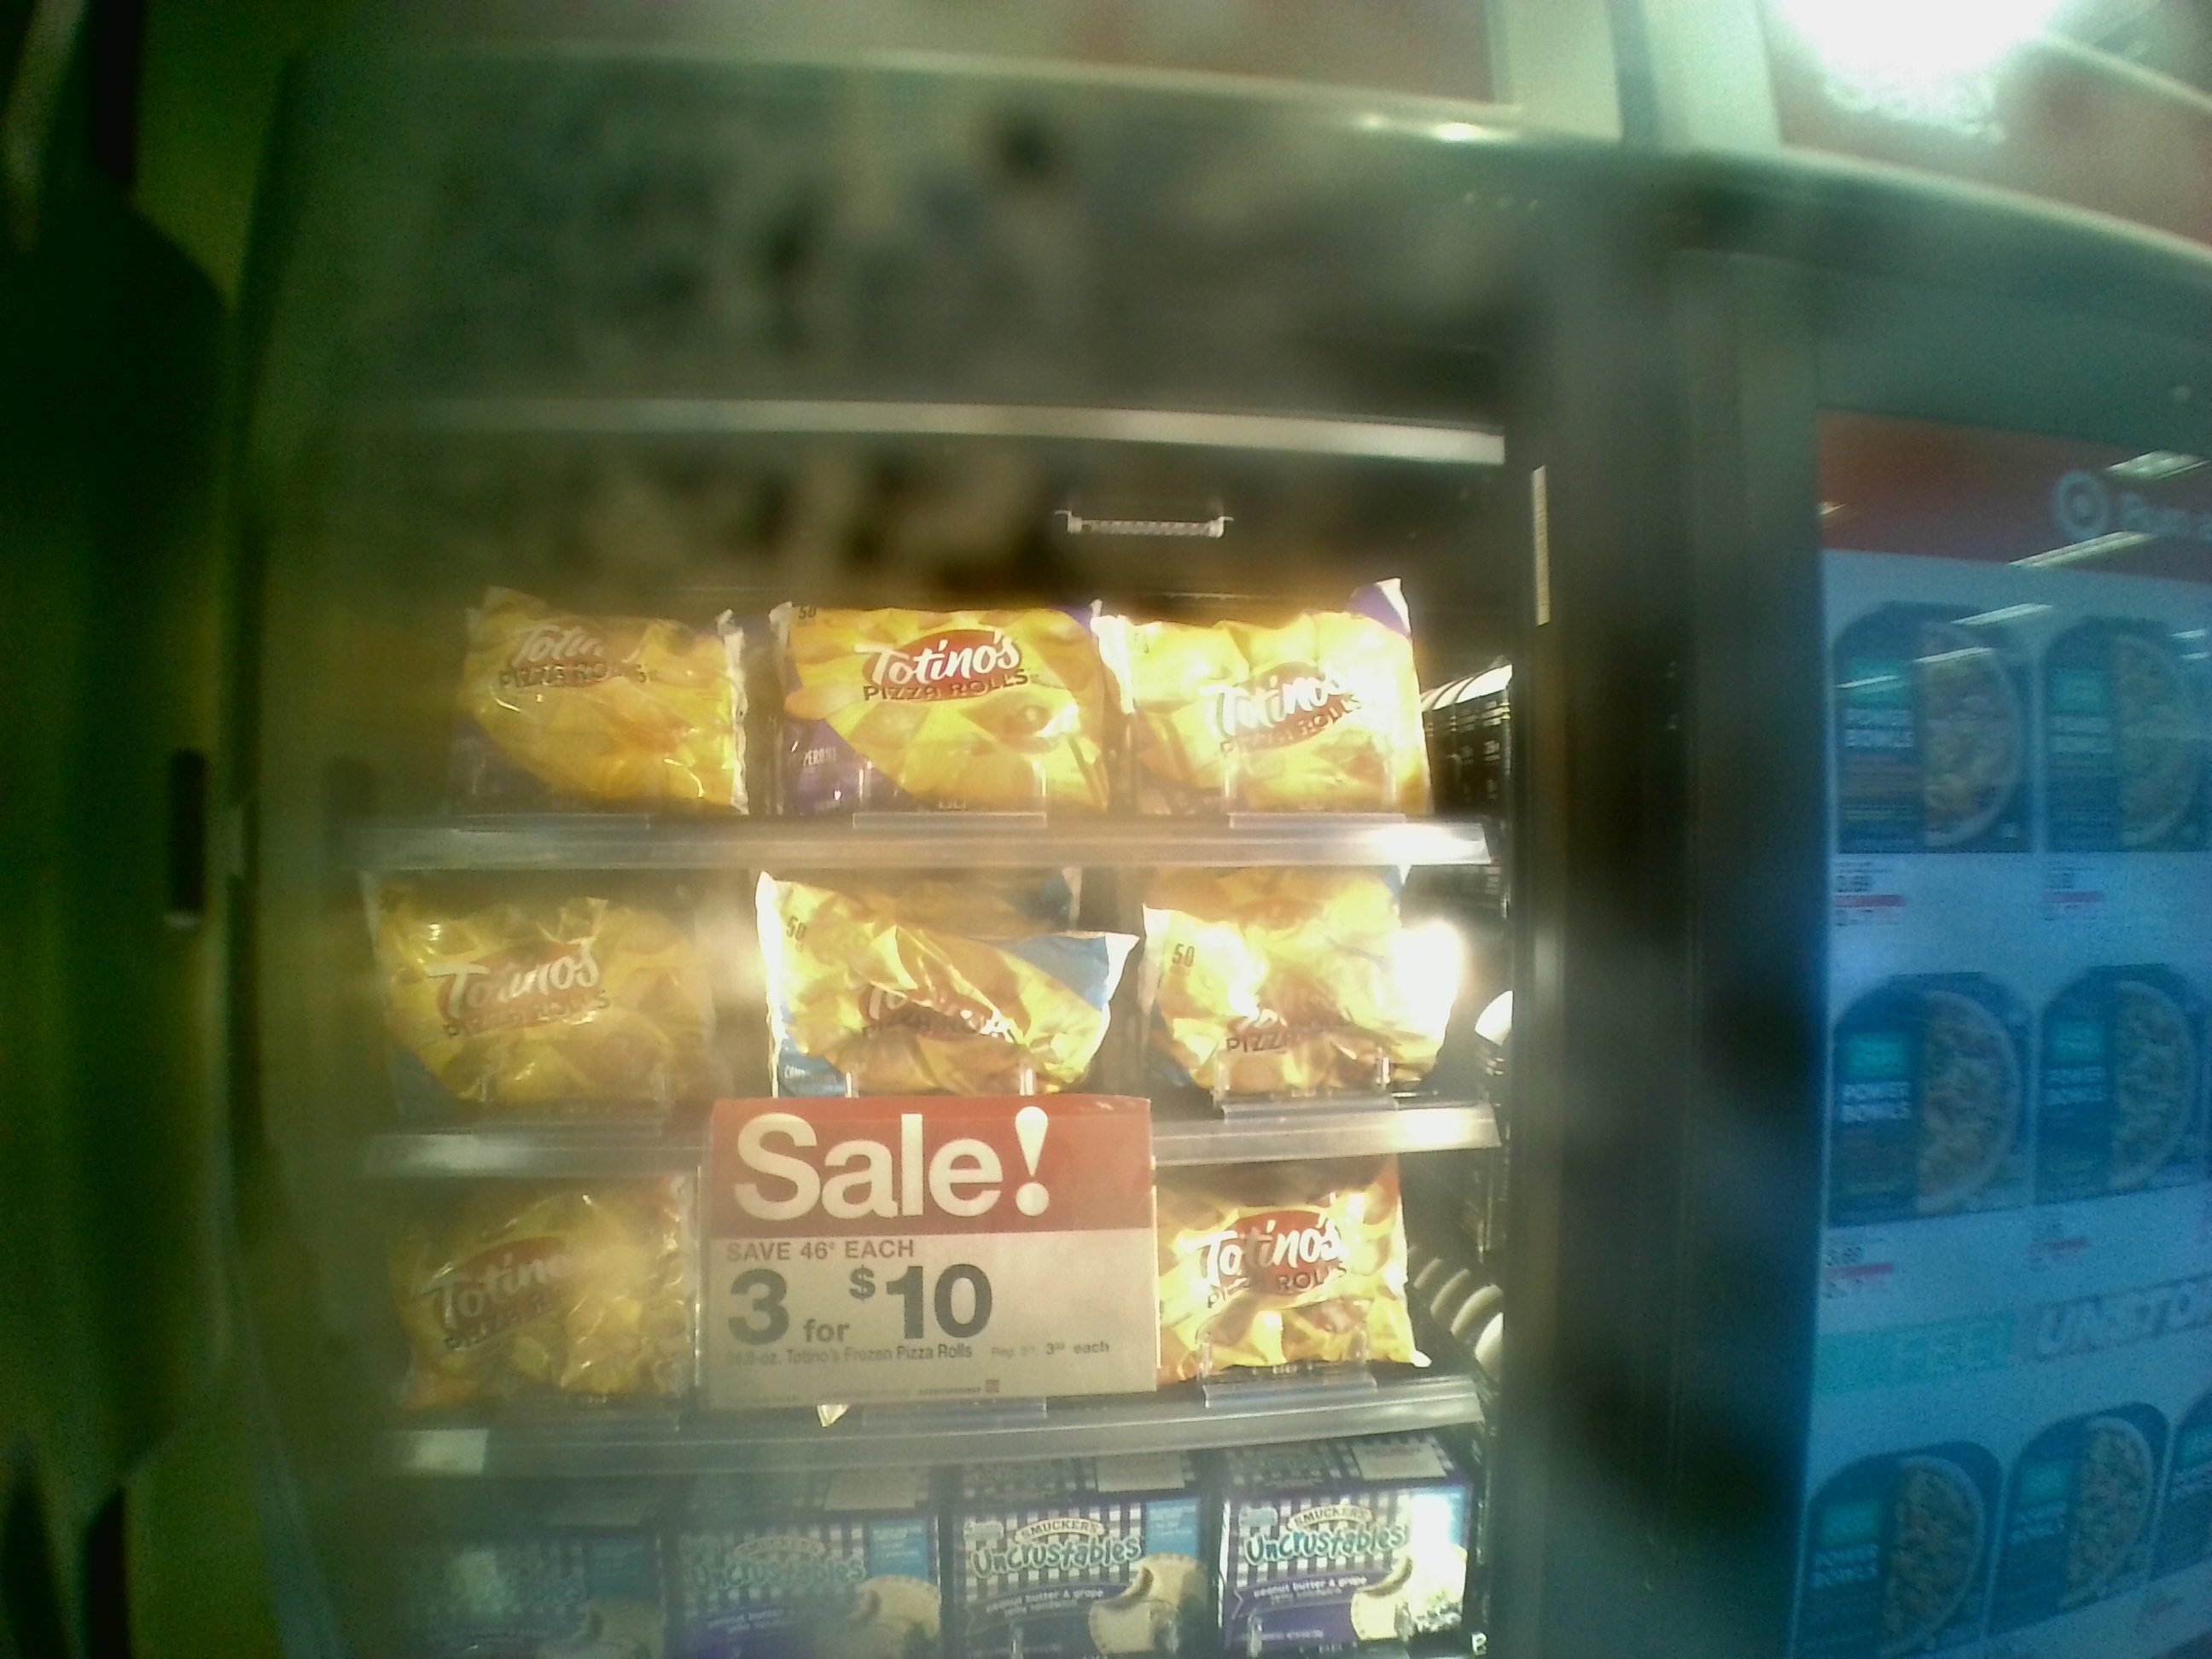shelf: (289, 497, 1489, 857), (314, 842, 1493, 1169), (289, 1169, 1531, 1452)
